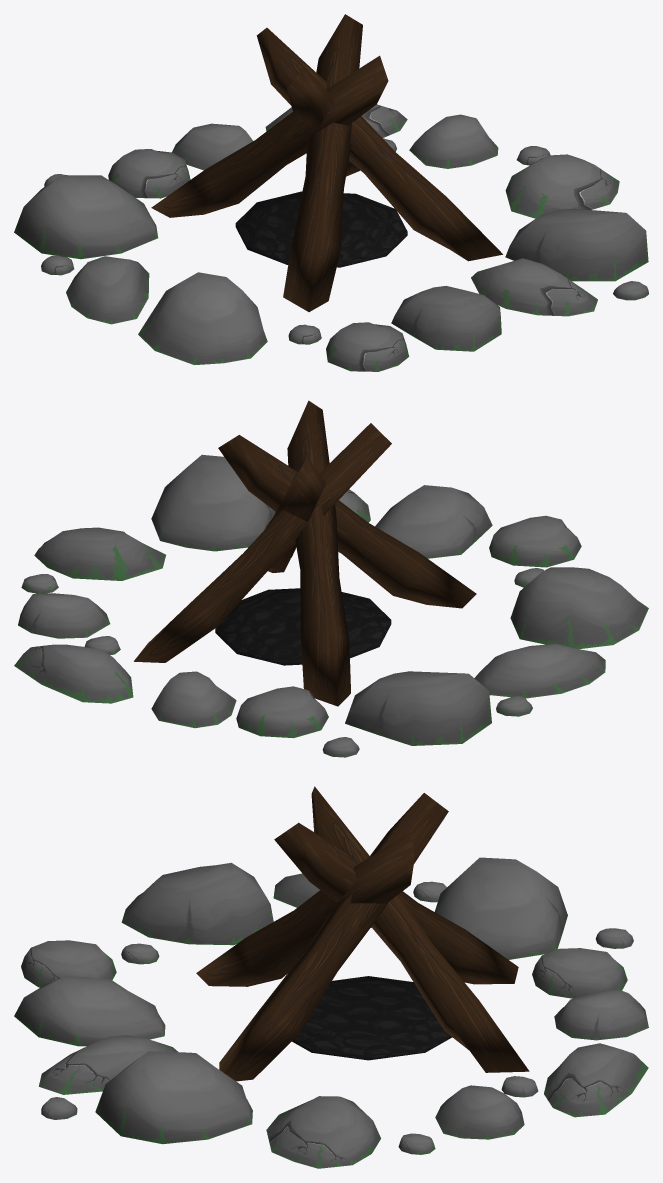
The model's file is Campfire_Off.fbx.
3 renders of one model, top to bottom at view 1: azimuth 30°, elevation 25°; view 2: azimuth 150°, elevation 25°; view 3: azimuth 270°, elevation 25°, orthographic. The views are drawn at different scales.
Visible parts, largest first — view 1: Campfire_Off; view 2: Campfire_Off; view 3: Campfire_Off.
Boxes of the visible parts, left/top/right/bottom form: Campfire_Off: left=14, top=14, right=648, bottom=371; Campfire_Off: left=14, top=400, right=648, bottom=757; Campfire_Off: left=14, top=786, right=648, bottom=1168.
Size of the model in its own units: 3.76 by 1.29 by 3.48.
